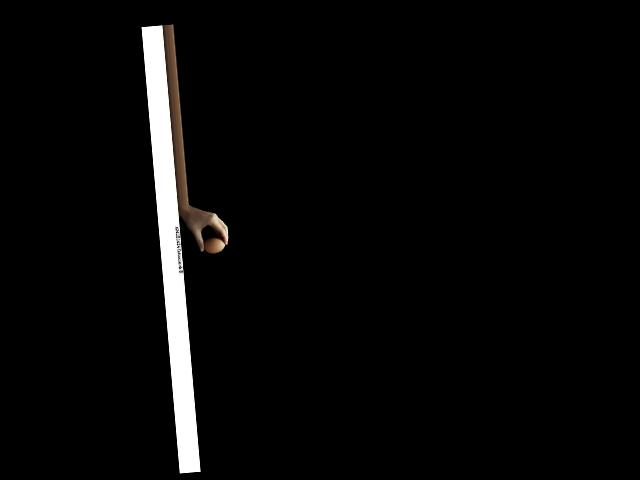egg: (203, 236, 226, 254)
